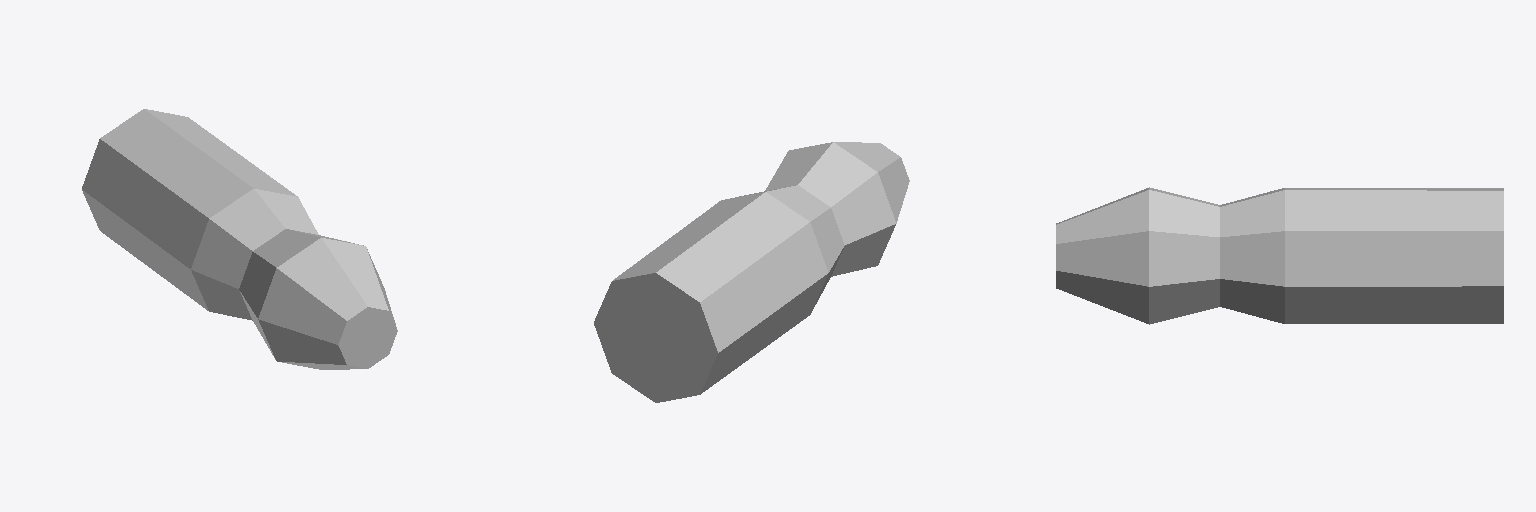
The model's file is softdrink_collision.obj.
3 views of the same model, side by side, from view 1: azimuth 30°, elevation 25°; view 2: azimuth 150°, elevation 25°; view 3: azimuth 270°, elevation 25° (orthographic).
Parts seen in each view (by area): view 1: Circle; view 2: Circle; view 3: Circle.
Part boxes in pixels (bbox=[...]): Circle: bbox=[82, 109, 397, 369]; Circle: bbox=[594, 142, 909, 402]; Circle: bbox=[1056, 187, 1503, 324].
Size of the model in its own units: 0.0835 by 0.0835 by 0.2562.